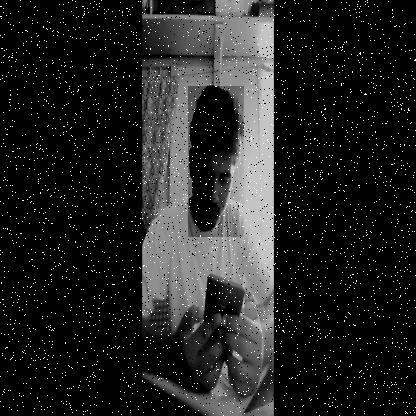Normal: (188, 86, 244, 237)
